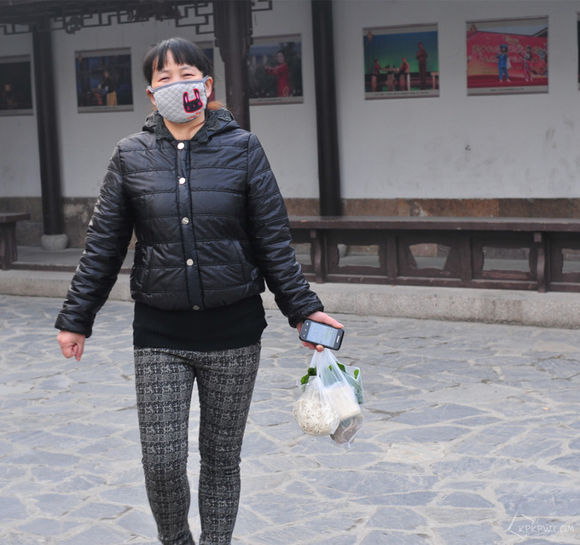face_mask: (152, 55, 204, 117)
